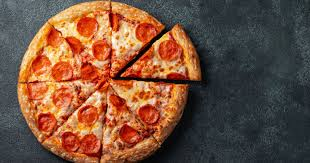pizza: (21, 3, 200, 161)
